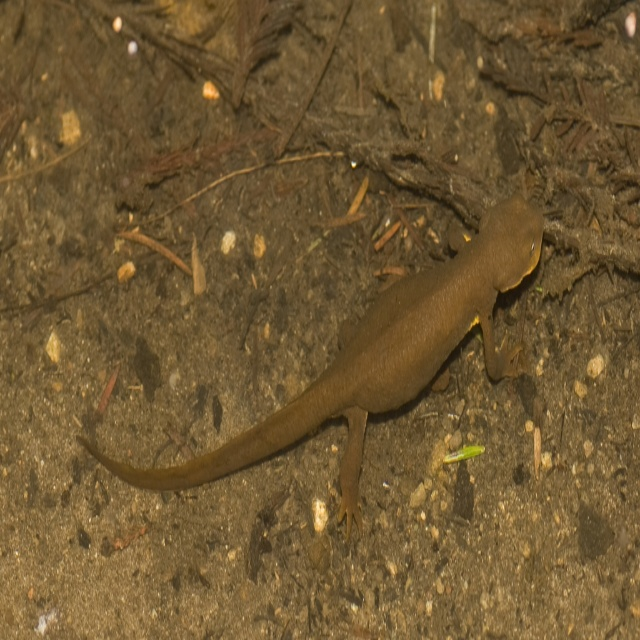Lizard: (76, 193, 546, 541)
